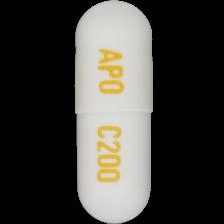10544-953: (0, 0, 224, 224)
